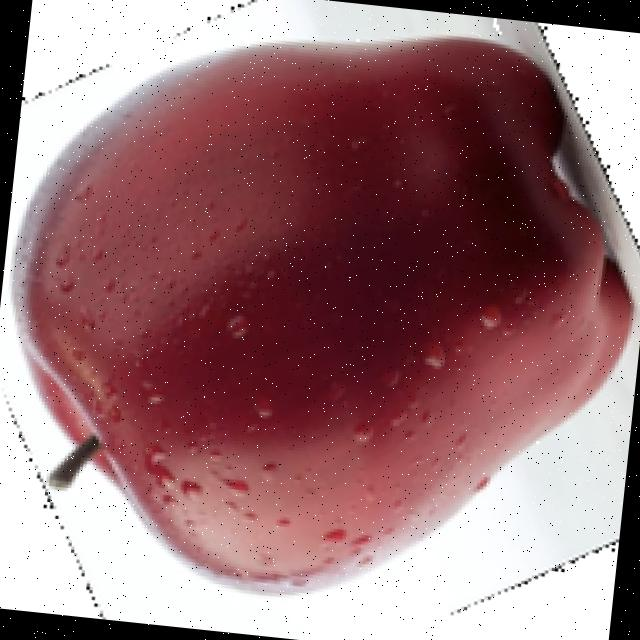apple: (0, 8, 640, 601)
